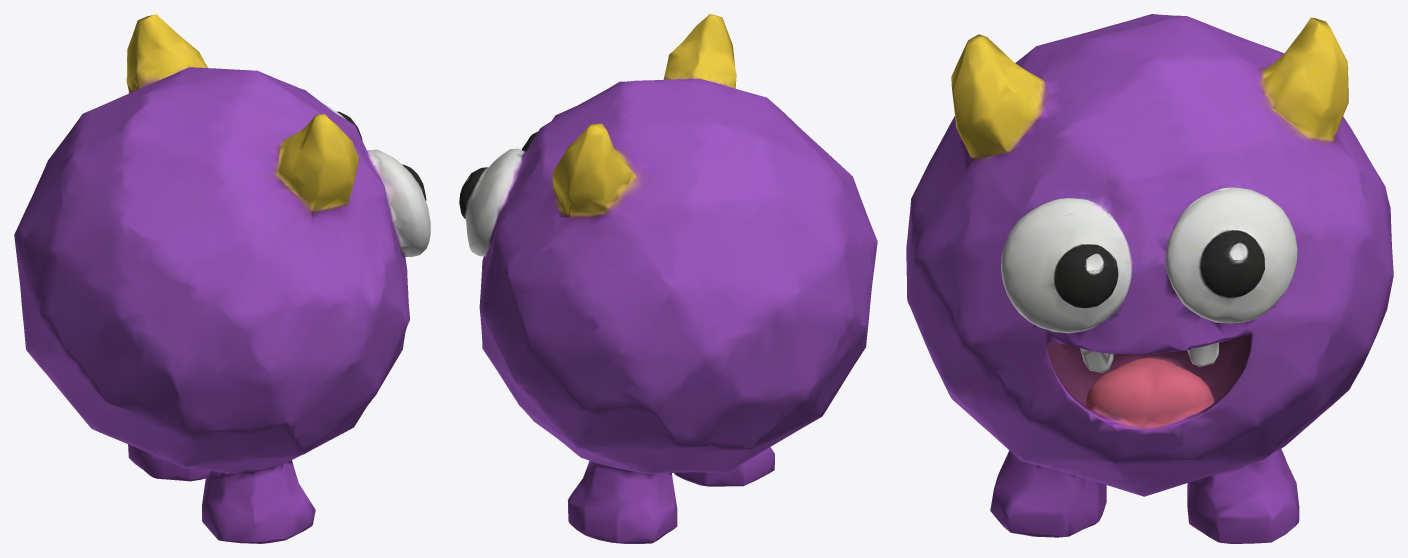
The model's file is monster1.glb.
3 views of the same model, side by side, from view 1: azimuth 30°, elevation 25°; view 2: azimuth 150°, elevation 25°; view 3: azimuth 270°, elevation 25° (orthographic). The views are drawn at different scales.
Visible parts, largest first — view 1: tripo_node_e0acdf8d-991d-4c9c-a231-36e70e5e6f67; view 2: tripo_node_e0acdf8d-991d-4c9c-a231-36e70e5e6f67; view 3: tripo_node_e0acdf8d-991d-4c9c-a231-36e70e5e6f67.
Part boxes in pixels (x1,y1,x2,y2): tripo_node_e0acdf8d-991d-4c9c-a231-36e70e5e6f67: [14, 14, 430, 543]; tripo_node_e0acdf8d-991d-4c9c-a231-36e70e5e6f67: [459, 14, 877, 543]; tripo_node_e0acdf8d-991d-4c9c-a231-36e70e5e6f67: [906, 14, 1393, 543].
Bounding box in the file's own units: 0.865 × 1 × 0.8809.
1 material, 1 textured.
